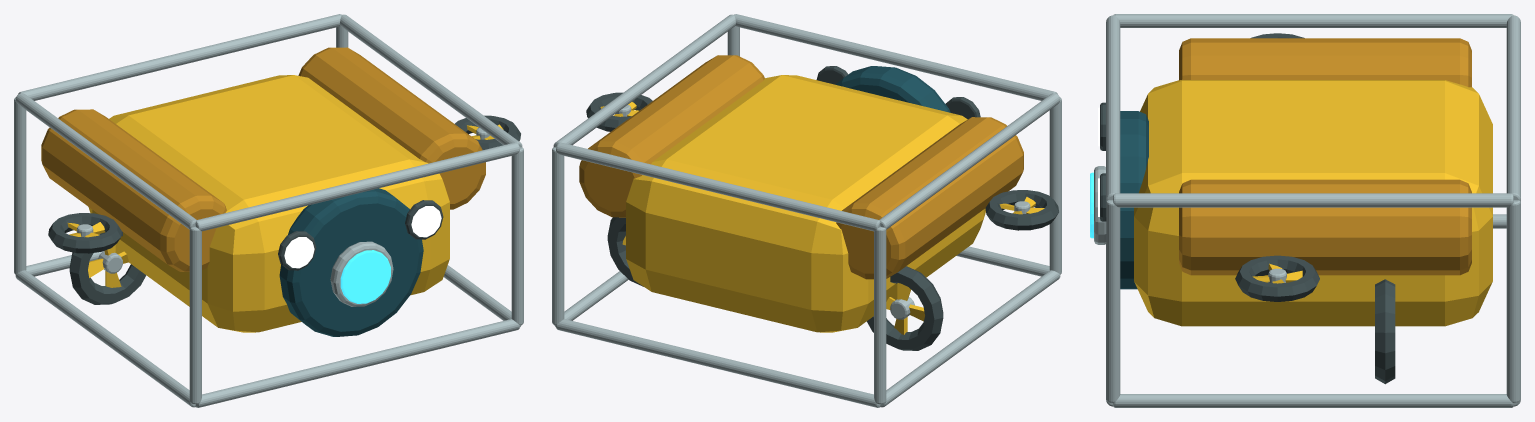
File: rov-observation.glb
The picture shows the model from 3 angles, left to right: view 1: azimuth 30°, elevation 25°; view 2: azimuth 150°, elevation 25°; view 3: azimuth 270°, elevation 25°; orthographic projection. The views are drawn at different scales.
Visible parts, largest first — view 1: pressure_body, float_-0.56, front_port, float_0.56, obs_guard_x_1_-1, obs_guard_x_-1_-1, obs_guard_x_1_1, obs_guard_y_1_-1, obs_guard_y_-1_-1, obs_guard_y_1_1, obs_guard_v_-1_-1, obs_guard_v_1_-1 (+12 smaller); view 2: pressure_body, float_-0.56, float_0.56, obs_guard_x_1_1, obs_guard_x_-1_1, obs_guard_x_1_-1, obs_guard_y_1_-1, obs_guard_y_-1_-1, obs_guard_y_1_1, front_port, horizontal_-0.56_housing, obs_guard_v_-1_1 (+8 smaller); view 3: pressure_body, float_0.56, float_-0.56, obs_guard_y_1_1, obs_guard_y_-1_1, obs_guard_y_1_-1, front_port, obs_guard_v_1_1, obs_guard_v_1_-1, obs_guard_x_1_-1, obs_guard_x_1_1, vertical_0.56_housing (+2 smaller).
Boxes of the visible parts, bbox=[...] form: pressure_body: bbox=[88, 75, 449, 332]; float_-0.56: bbox=[41, 109, 226, 271]; front_port: bbox=[279, 188, 423, 336]; float_0.56: bbox=[298, 47, 485, 209]; obs_guard_x_1_-1: bbox=[195, 142, 519, 231]; obs_guard_x_-1_-1: bbox=[195, 319, 519, 407]; obs_guard_x_1_1: bbox=[18, 14, 341, 100]; obs_guard_y_1_-1: bbox=[15, 93, 196, 229]; obs_guard_y_-1_-1: bbox=[15, 270, 195, 407]; obs_guard_y_1_1: bbox=[340, 14, 522, 147]; obs_guard_v_-1_-1: bbox=[189, 226, 201, 404]; obs_guard_v_1_-1: bbox=[511, 147, 523, 325]; pressure_body: bbox=[626, 75, 985, 332]; float_-0.56: bbox=[836, 117, 1023, 279]; float_0.56: bbox=[579, 55, 764, 217]; obs_guard_x_1_1: bbox=[556, 142, 880, 231]; obs_guard_x_-1_1: bbox=[556, 319, 880, 407]; obs_guard_x_1_-1: bbox=[734, 14, 1057, 100]; obs_guard_y_1_-1: bbox=[879, 93, 1060, 229]; obs_guard_y_-1_-1: bbox=[880, 270, 1060, 407]; obs_guard_y_1_1: bbox=[553, 14, 735, 147]; front_port: bbox=[835, 66, 950, 112]; horizontal_-0.56_housing: bbox=[867, 266, 943, 350]; obs_guard_v_-1_1: bbox=[874, 226, 886, 404]; pressure_body: bbox=[1134, 80, 1492, 326]; float_0.56: bbox=[1179, 179, 1471, 275]; float_-0.56: bbox=[1179, 38, 1471, 87]; obs_guard_y_1_1: bbox=[1113, 193, 1513, 207]; obs_guard_y_-1_1: bbox=[1113, 394, 1513, 407]; obs_guard_y_1_-1: bbox=[1114, 14, 1512, 27]; front_port: bbox=[1120, 111, 1148, 289]; obs_guard_v_1_1: bbox=[1506, 200, 1520, 402]; obs_guard_v_1_-1: bbox=[1106, 200, 1120, 402]; obs_guard_x_1_-1: bbox=[1106, 15, 1120, 200]; obs_guard_x_1_1: bbox=[1506, 15, 1520, 200]; vertical_0.56_housing: bbox=[1235, 255, 1319, 301].
Size of the model in its own units: 2.04 by 0.7872 by 1.44.
